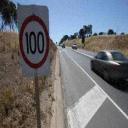speed_limit_100: (19, 15, 49, 68)
